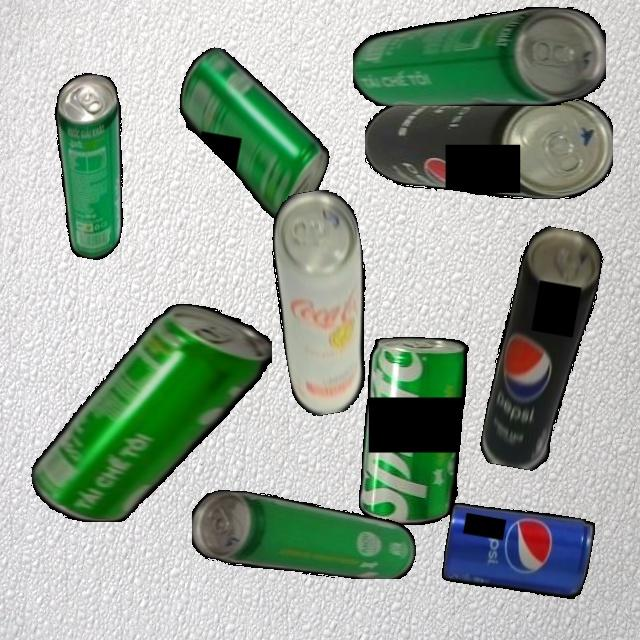debris: (31, 303, 272, 522), (478, 222, 607, 476), (163, 44, 344, 225), (259, 185, 389, 419), (358, 336, 500, 525), (364, 93, 613, 199), (352, 7, 606, 106), (31, 69, 147, 263), (192, 489, 416, 579), (439, 497, 596, 604)
